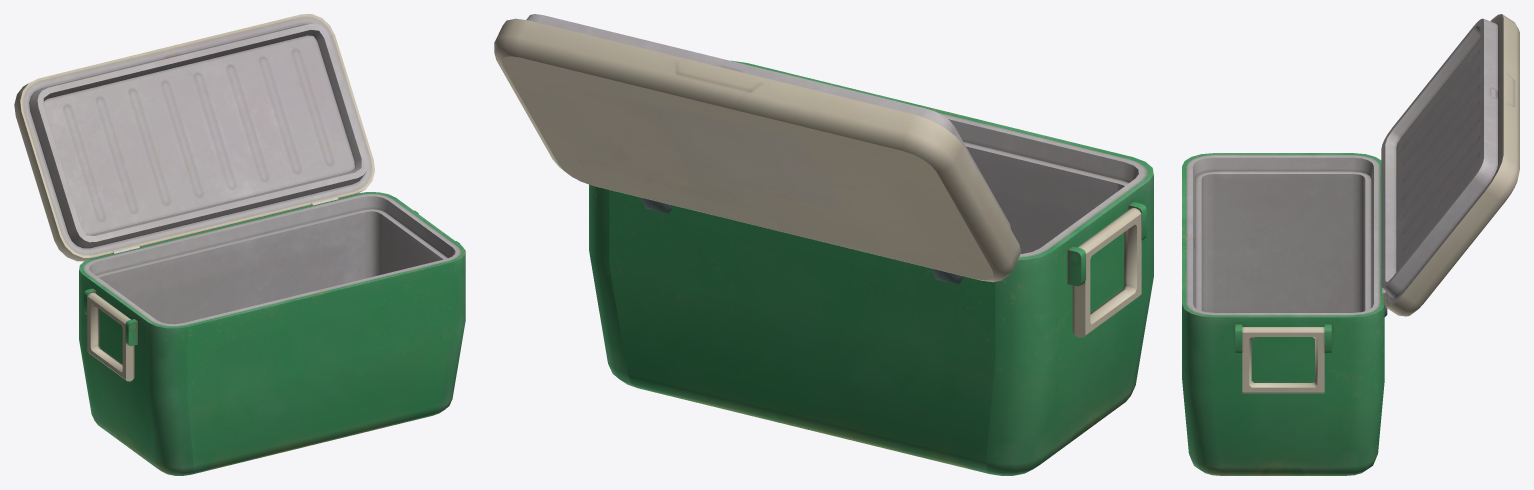
The model's file is Ht_wenxiang_01.fbx.
3 renders of one model, left to right at view 1: azimuth 30°, elevation 25°; view 2: azimuth 150°, elevation 25°; view 3: azimuth 270°, elevation 25°, orthographic. The views are drawn at different scales.
Parts seen in each view (by area): view 1: Ht_wenxiang_01; view 2: Ht_wenxiang_01; view 3: Ht_wenxiang_01.
Part boxes in pixels (x1,y1,x2,y2): Ht_wenxiang_01: (14, 14, 465, 475); Ht_wenxiang_01: (494, 14, 1153, 475); Ht_wenxiang_01: (1182, 14, 1519, 475).
Size of the model in its own units: 78.24 by 64.2 by 66.8.
